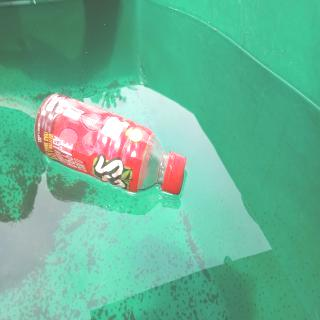bottle: (33, 90, 187, 196)
